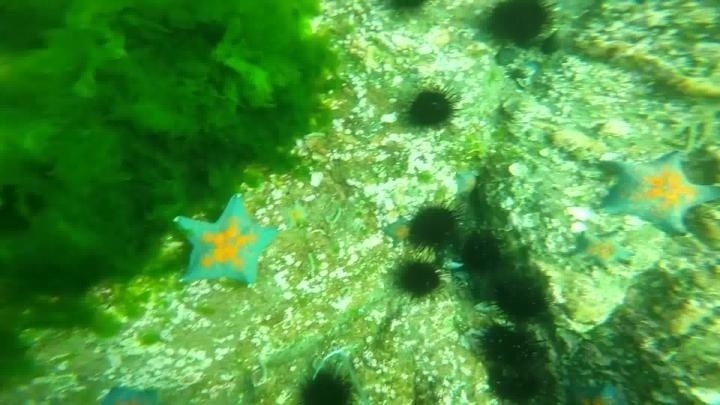echinus: (481, 1, 558, 49), (474, 321, 542, 373), (490, 272, 550, 324), (405, 202, 460, 252), (402, 85, 460, 132), (483, 363, 548, 403), (295, 367, 357, 404), (392, 257, 444, 301), (458, 228, 506, 275), (376, 1, 434, 24)
starfish: (594, 150, 717, 239), (172, 194, 279, 288), (573, 229, 634, 273), (563, 378, 629, 403), (99, 381, 163, 403), (451, 167, 481, 199), (381, 217, 414, 246), (285, 201, 312, 229)
